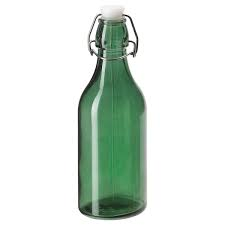glass_bottle: (74, 3, 155, 221)
